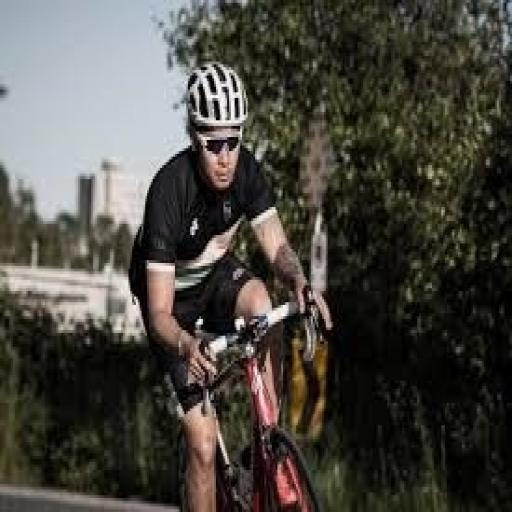cycling: (127, 59, 335, 509)
